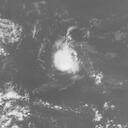cyclone: (52, 39, 80, 74)
